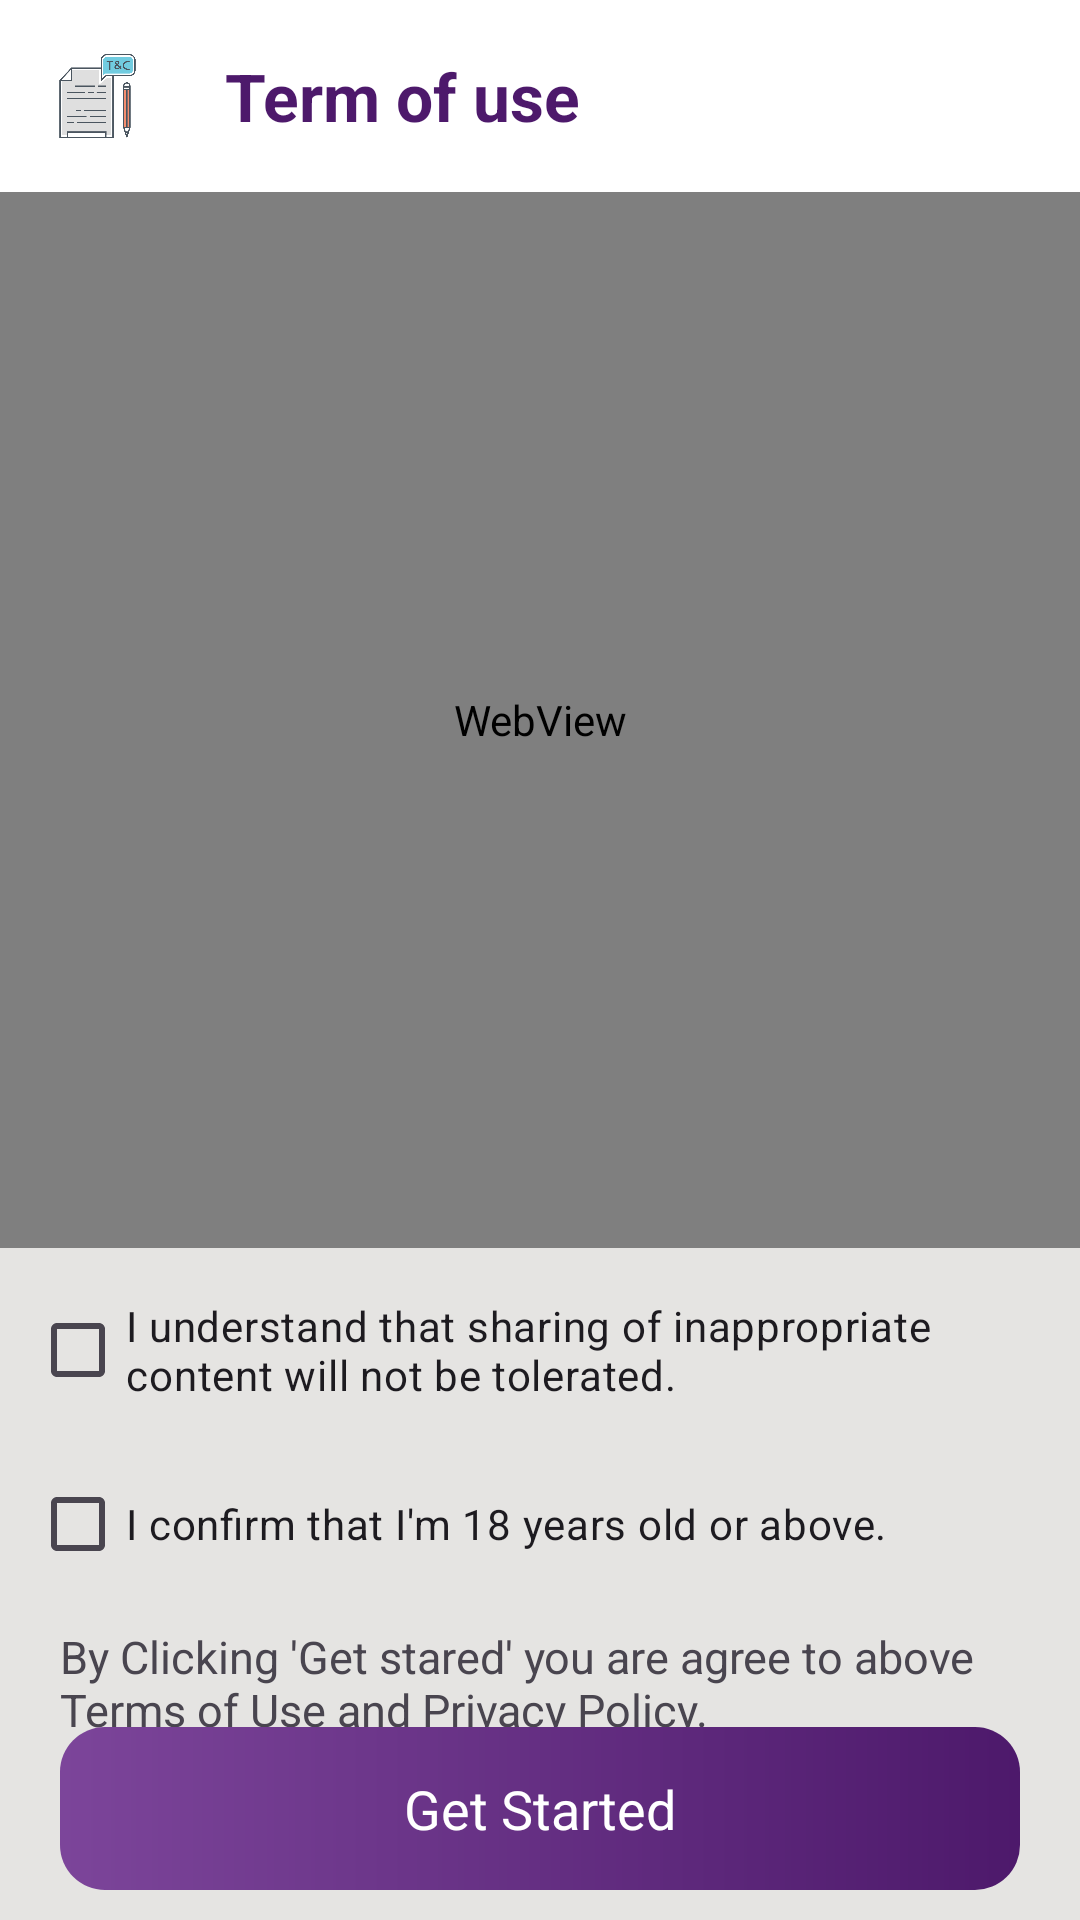

Named icons in this screenshot (1080px x 1920px) and their centers, [x,y]:
terms: [97,96]
